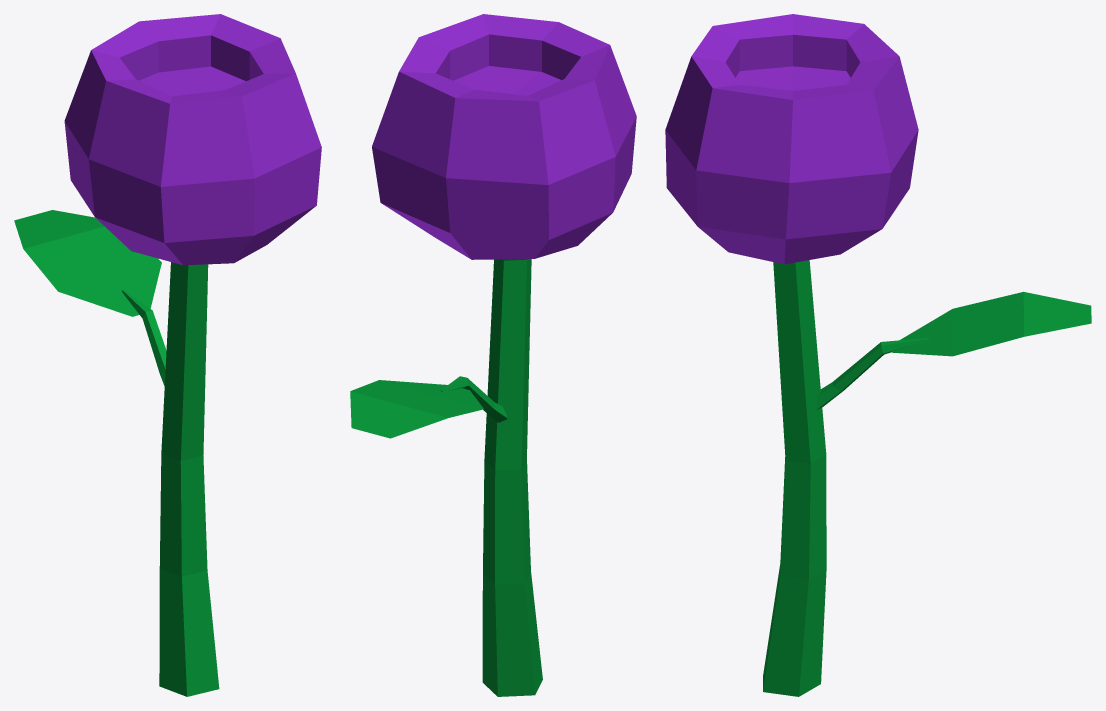
File: flower.fbx
The picture shows the model from 3 angles, left to right: view 1: azimuth 30°, elevation 25°; view 2: azimuth 150°, elevation 25°; view 3: azimuth 270°, elevation 25°; orthographic projection.
Visible parts, largest first — view 1: Cylinder; view 2: Cylinder; view 3: Cylinder.
Boxes of the visible parts, x1,y1,x2,y2 form: Cylinder: (14,14,321,696); Cylinder: (350,14,636,696); Cylinder: (665,14,1091,696).
Bounding box in the file's own units: 257 × 718 × 441.
